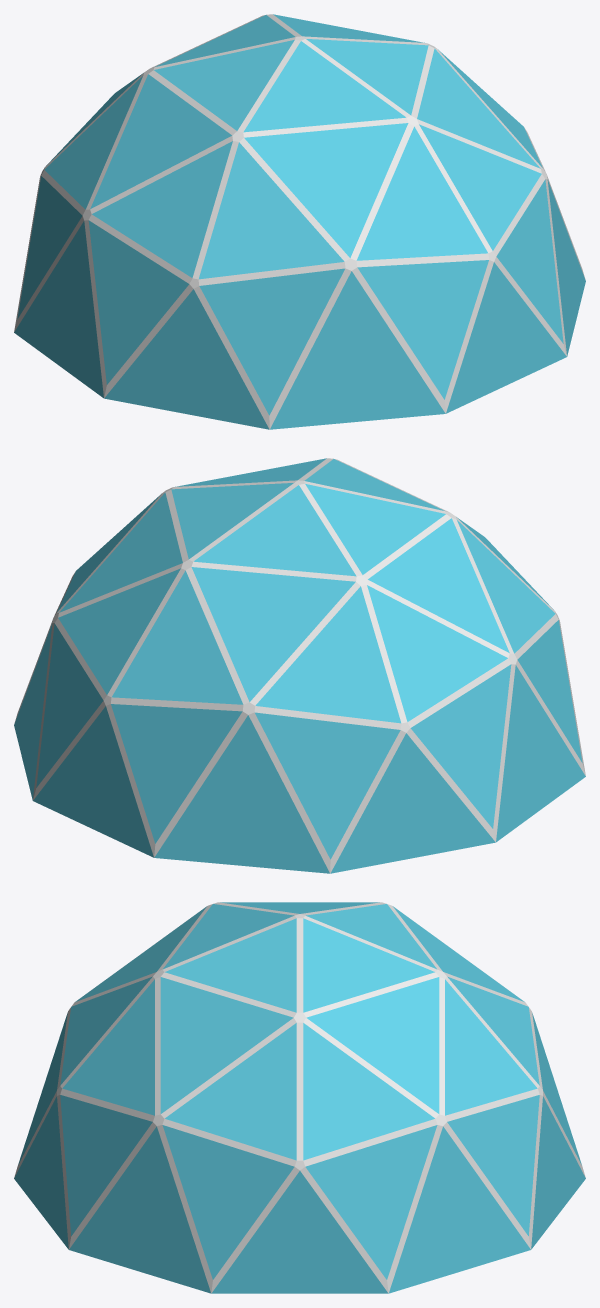
Rendered from Dome.fbx.
3 views of the same model, one above another, from view 1: azimuth 30°, elevation 25°; view 2: azimuth 150°, elevation 25°; view 3: azimuth 270°, elevation 25° (orthographic). The views are drawn at different scales.
Visible parts, largest first — view 1: Icosphere; view 2: Icosphere; view 3: Icosphere.
Boxes of the visible parts, bbox=[...] form: Icosphere: bbox=[14, 14, 585, 429]; Icosphere: bbox=[14, 458, 585, 873]; Icosphere: bbox=[14, 902, 585, 1293].
Size of the model in its own units: 182 by 96.85 by 191.
